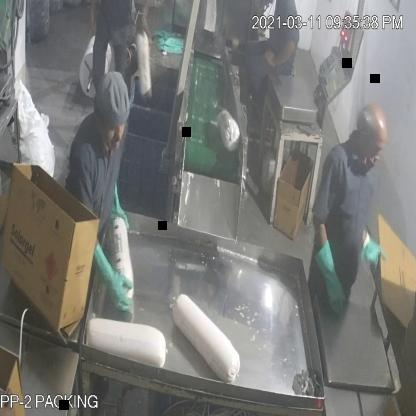glove: (89, 233, 138, 318), (316, 238, 351, 329)
no_glove: (257, 34, 300, 72), (80, 0, 101, 40)
